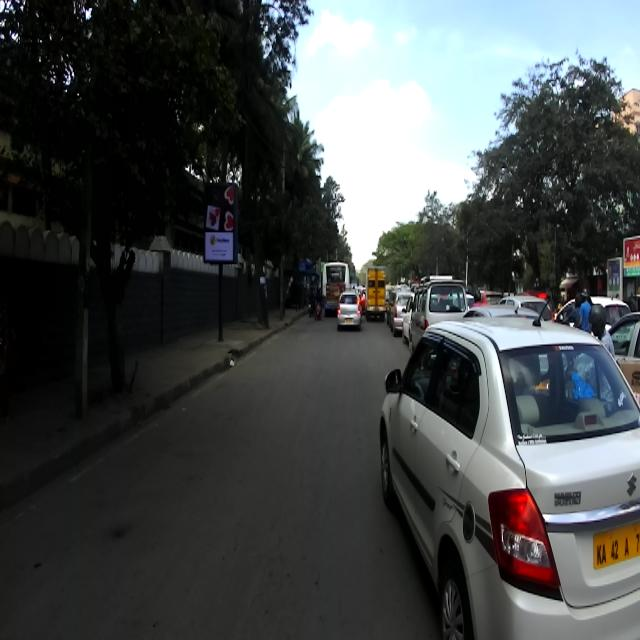barrier ahead at: (200, 175, 240, 345)
car ahead at: (378, 313, 640, 640)
